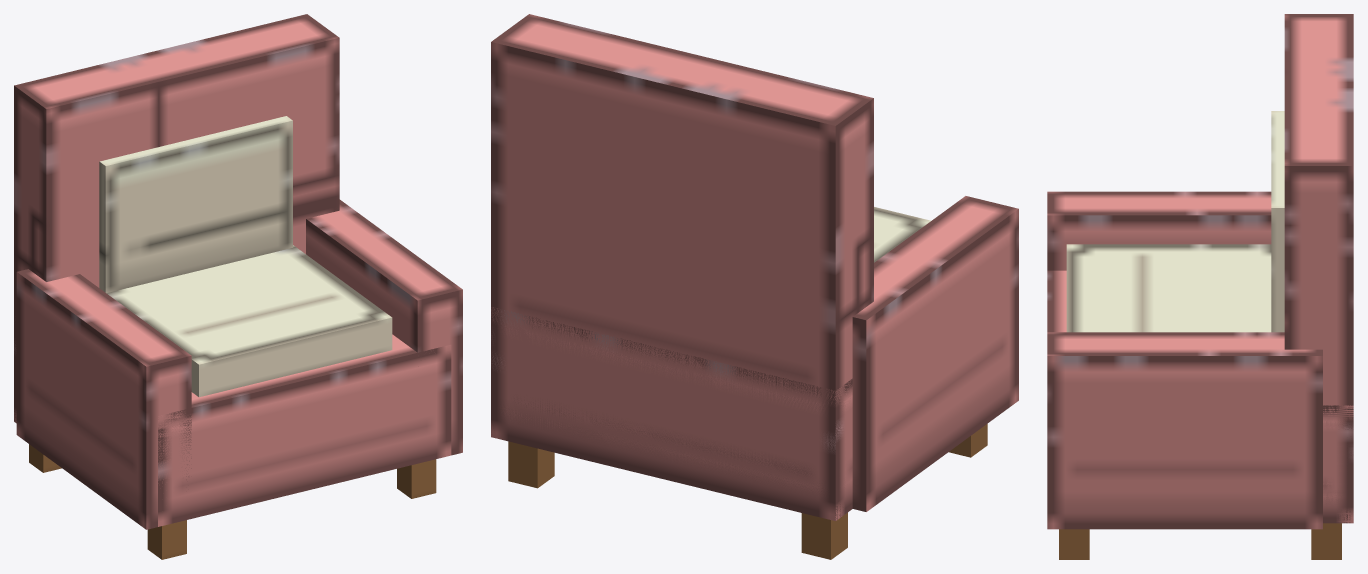
Rendered from Armchair.obj.
3 views of the same model, side by side, from view 1: azimuth 30°, elevation 25°; view 2: azimuth 150°, elevation 25°; view 3: azimuth 270°, elevation 25° (orthographic). The views are drawn at different scales.
Parts seen in each view (by area): view 1: Armchair; view 2: Armchair; view 3: Armchair.
Boxes of the visible parts, x1=… form: Armchair: x1=14, y1=14, x2=462, y2=559; Armchair: x1=491, y1=14, x2=1018, y2=559; Armchair: x1=1047, y1=14, x2=1353, y2=559.
Size of the model in its own units: 1.01 by 1.15 by 0.8.
1 material, 1 textured.
